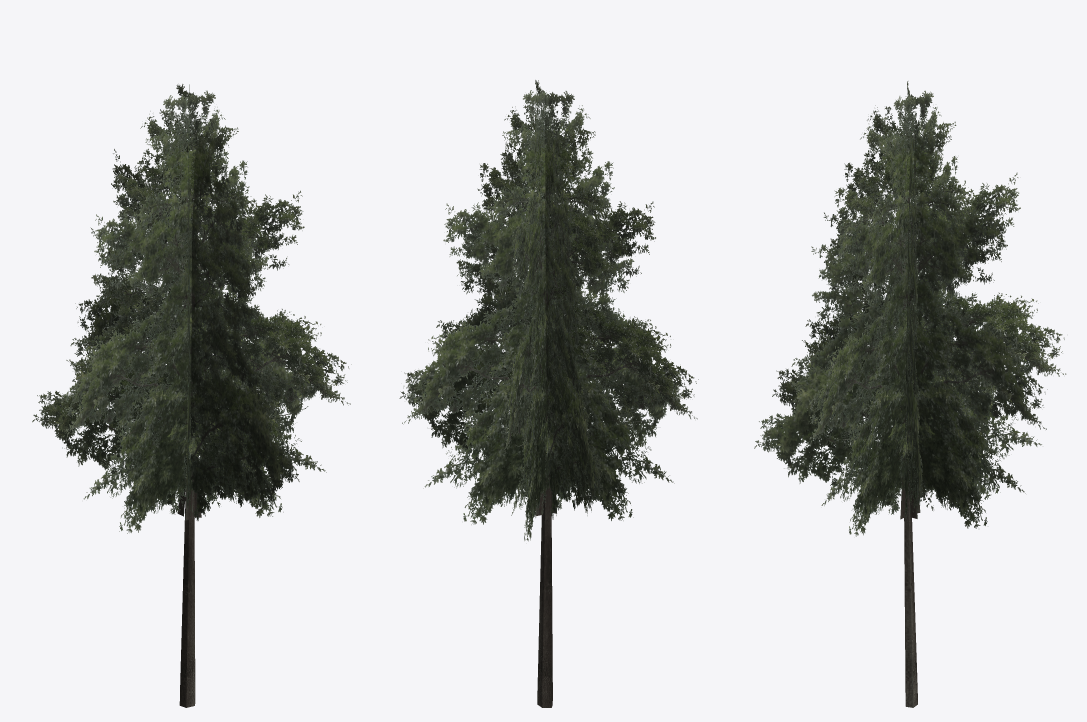
Rendered from TreePs1SIDE.fbx.
3 views of the same model, side by side, from view 1: azimuth 30°, elevation 25°; view 2: azimuth 150°, elevation 25°; view 3: azimuth 270°, elevation 25° (orthographic).
Visible parts, largest first — view 1: TreePs1; view 2: TreePs1; view 3: TreePs1.
Part boxes in pixels (box(x1,y1,x2,y2)): TreePs1: box(32, 84, 351, 707); TreePs1: box(399, 80, 698, 707); TreePs1: box(754, 81, 1066, 707).
Bounding box in the file's own units: 3.29 × 6.51 × 3.21.
